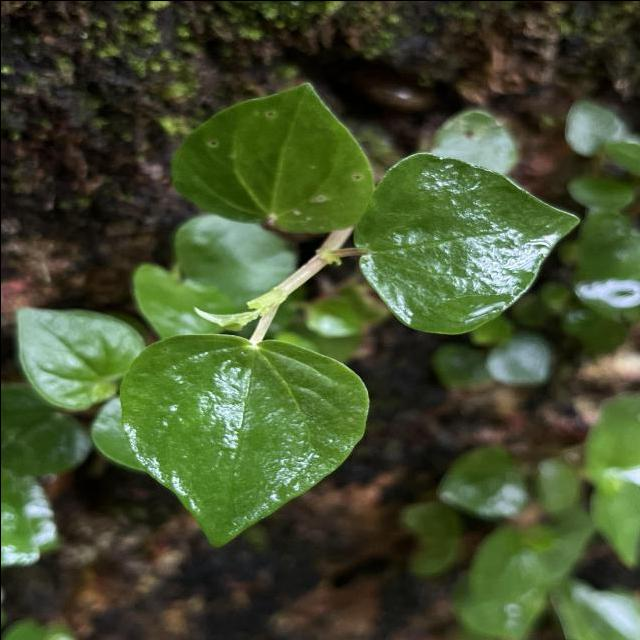Peperomia pellucida: (114, 328, 372, 554), (348, 148, 582, 340)
